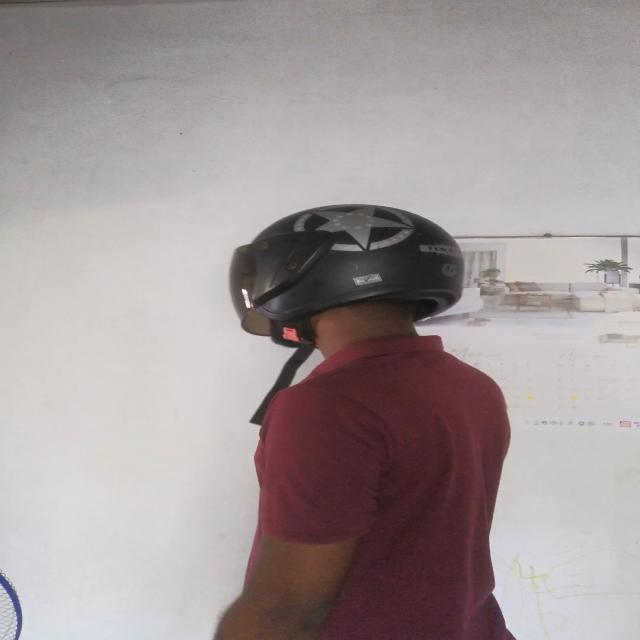Helmet_Wearer: (196, 204, 480, 366)
